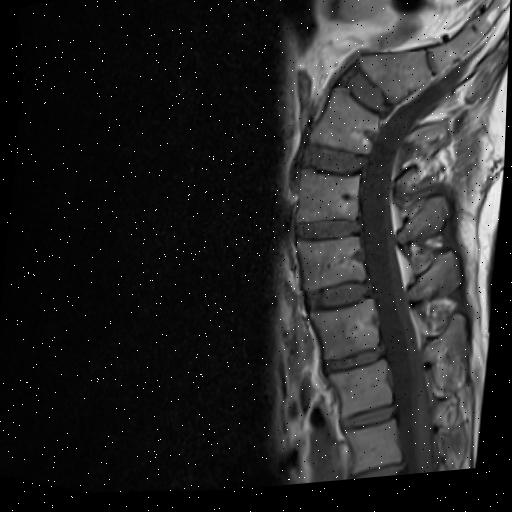L1: (333, 368, 395, 423)
L2: (313, 305, 381, 365)
L3: (299, 243, 367, 295)
L4: (300, 176, 361, 227)
L5: (310, 94, 380, 160)
S1: (359, 58, 432, 110)
